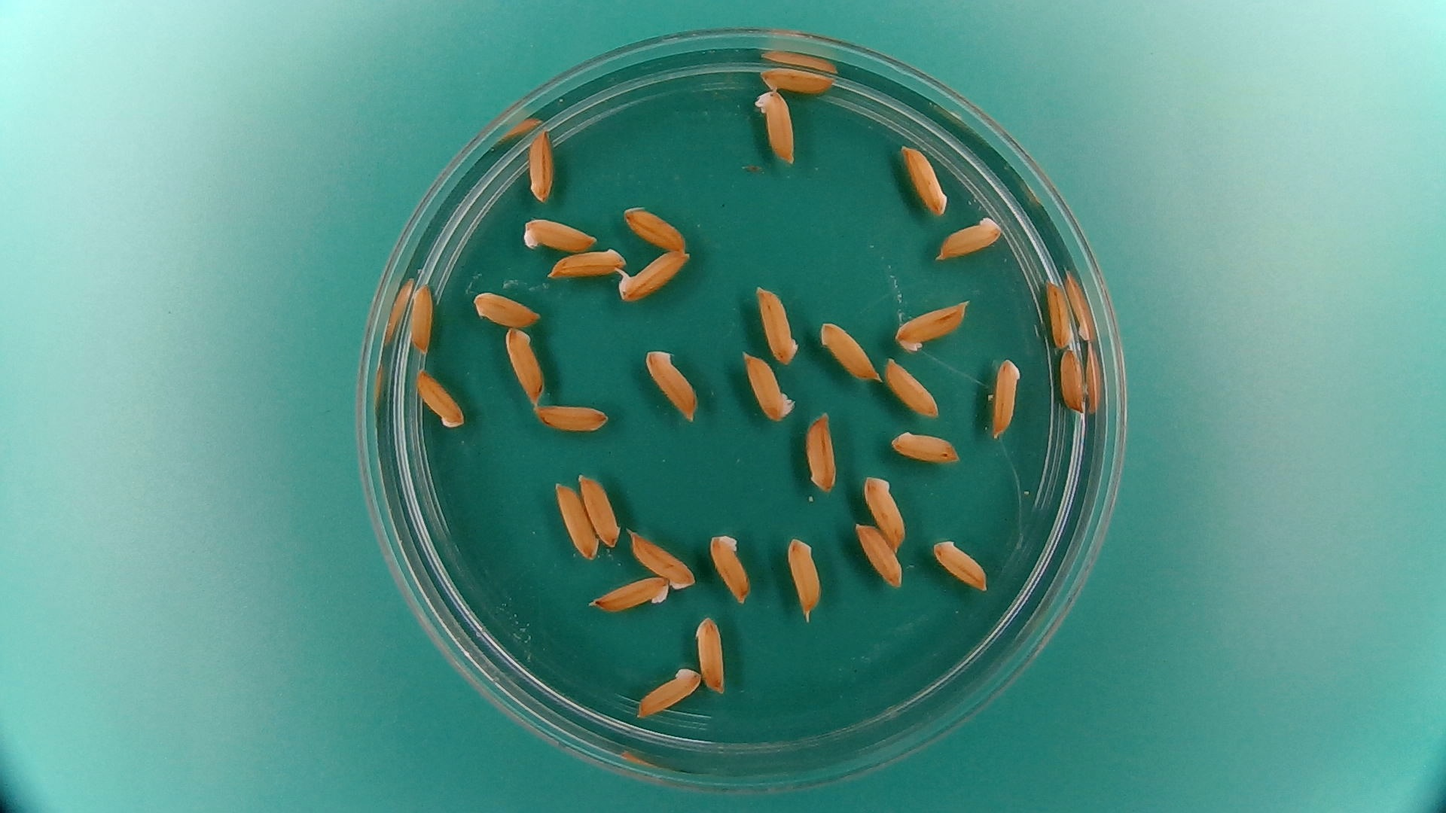no: (641, 343, 701, 422), (625, 528, 697, 592), (891, 296, 972, 352), (814, 318, 884, 382), (740, 348, 797, 424), (753, 279, 801, 367), (931, 536, 993, 600), (898, 140, 950, 216), (551, 480, 599, 562), (861, 471, 908, 553), (633, 663, 703, 718), (881, 355, 941, 419), (751, 86, 798, 166), (706, 528, 753, 607), (577, 470, 623, 550), (621, 202, 691, 254), (853, 519, 905, 589), (587, 572, 672, 614), (502, 324, 545, 406), (784, 532, 824, 619), (935, 213, 1004, 263), (413, 367, 466, 431), (517, 213, 599, 254), (545, 242, 629, 279), (804, 408, 839, 495), (694, 611, 729, 696), (470, 288, 541, 328), (888, 426, 962, 464), (990, 355, 1023, 440), (532, 400, 612, 435), (756, 64, 837, 96), (526, 124, 557, 204), (1043, 276, 1076, 351), (1057, 345, 1088, 416), (407, 279, 435, 355)
yes: (617, 249, 692, 309)
